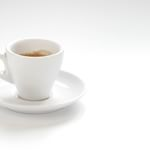cups: (1, 34, 69, 103)
